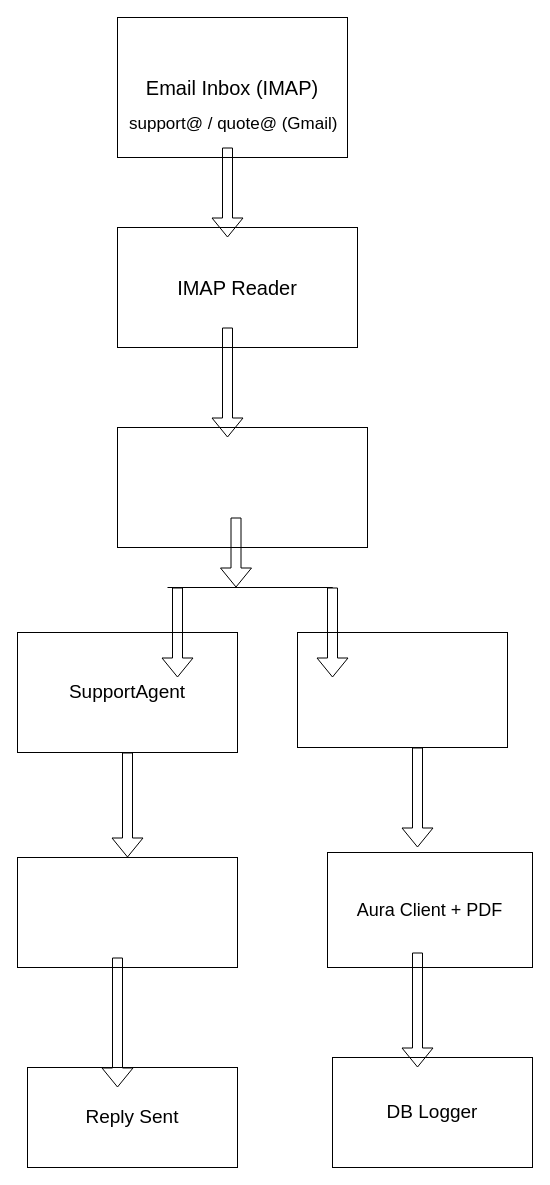
This 550x1185 diagram has some shape labels left out. Here are the shapes that lost their labels. From the top down, the centre of each, then its label:
point 242,487: Classifier (Azure OpenAI)
point 402,690: QuoteAgent │
point 127,912: SMTP Sender
